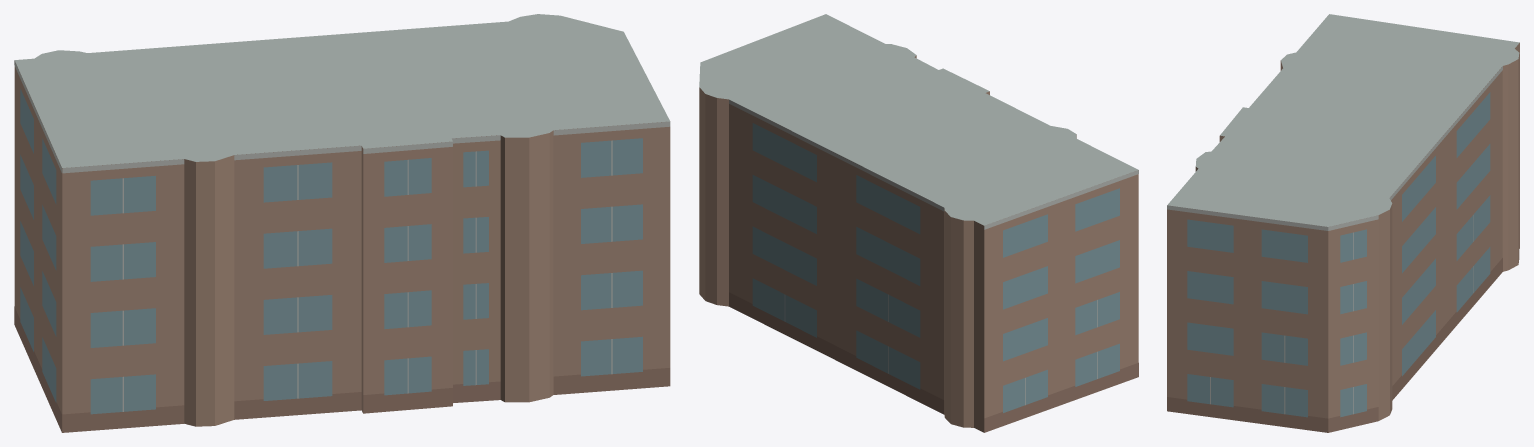
File: survey-upis-32851069.glb
The picture shows the model from 3 angles, left to right: view 1: azimuth 30°, elevation 25°; view 2: azimuth 150°, elevation 25°; view 3: azimuth 270°, elevation 25°; orthographic projection. The views are drawn at different scales.
Parts seen in each view (by area): view 1: survey-upis-32851069.tmp; view 2: survey-upis-32851069.tmp; view 3: survey-upis-32851069.tmp.
Boxes of the visible parts, box(x1,y1,x2,y2) form: survey-upis-32851069.tmp: box(14, 14, 670, 432); survey-upis-32851069.tmp: box(699, 14, 1138, 432); survey-upis-32851069.tmp: box(1167, 14, 1519, 432).
Size of the model in its own units: 27.06 by 12.2 by 18.95.
